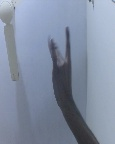hand: (45, 25, 76, 107)
